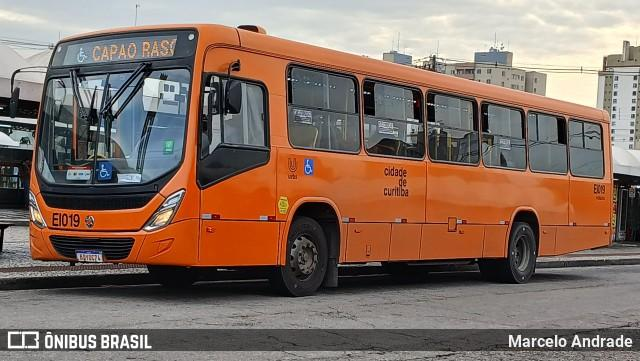CAPAO RASO: (88, 37, 181, 64)
